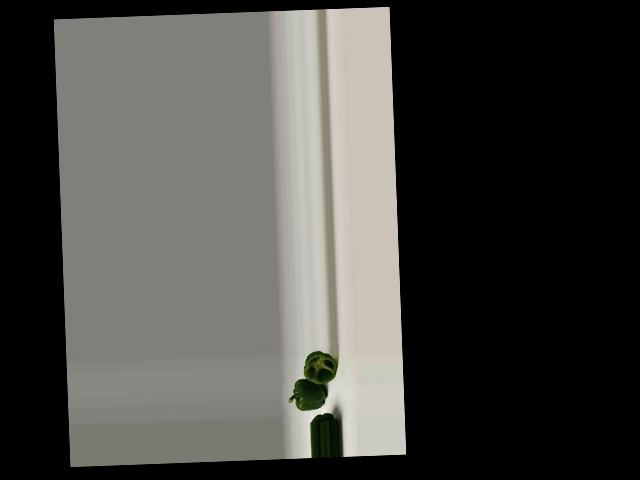bell_pepper: (299, 348, 340, 387)
